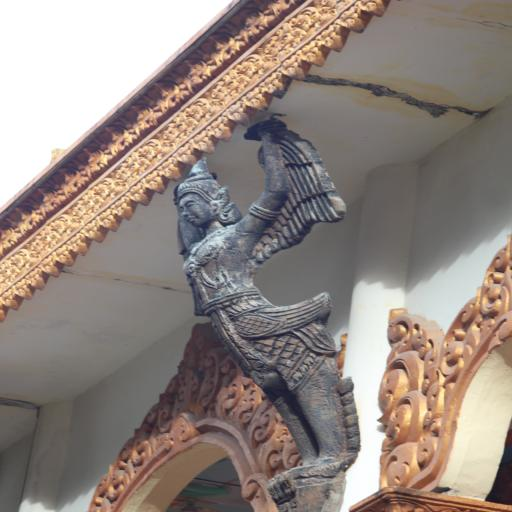la: (337, 9, 369, 32), (322, 27, 350, 52), (262, 76, 292, 99), (157, 156, 185, 180), (245, 89, 273, 112), (304, 43, 328, 69), (282, 55, 307, 79), (208, 119, 235, 141), (229, 100, 251, 126), (189, 132, 214, 154), (66, 234, 91, 256), (142, 173, 168, 194), (86, 226, 110, 248), (130, 189, 154, 210), (114, 199, 136, 221), (101, 210, 123, 232), (41, 258, 65, 278), (0, 291, 23, 311), (55, 249, 77, 268), (27, 272, 50, 290), (358, 1, 391, 13), (177, 146, 196, 166), (15, 281, 36, 299)
lua: (214, 376, 254, 423), (410, 378, 448, 420), (440, 336, 474, 379), (244, 398, 274, 442), (406, 428, 440, 466), (264, 433, 298, 467), (162, 407, 194, 443), (122, 428, 150, 468), (481, 287, 512, 320), (386, 446, 414, 482), (99, 471, 132, 499)
than: (160, 153, 393, 470)
